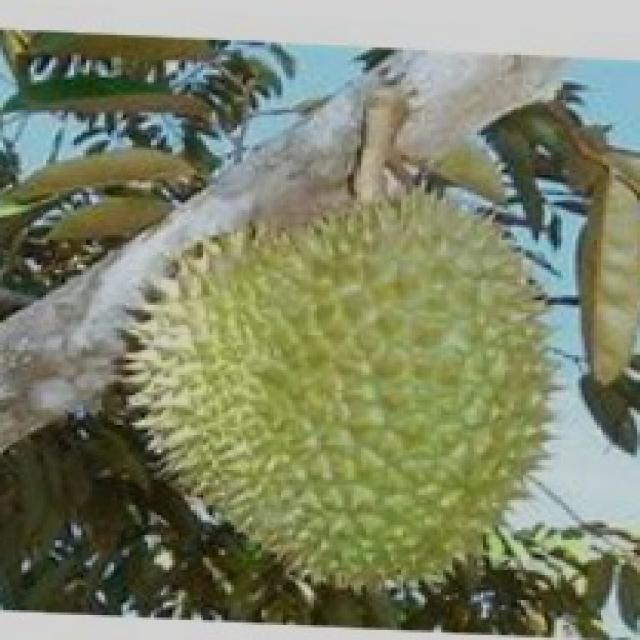fruit: (89, 188, 351, 578)
